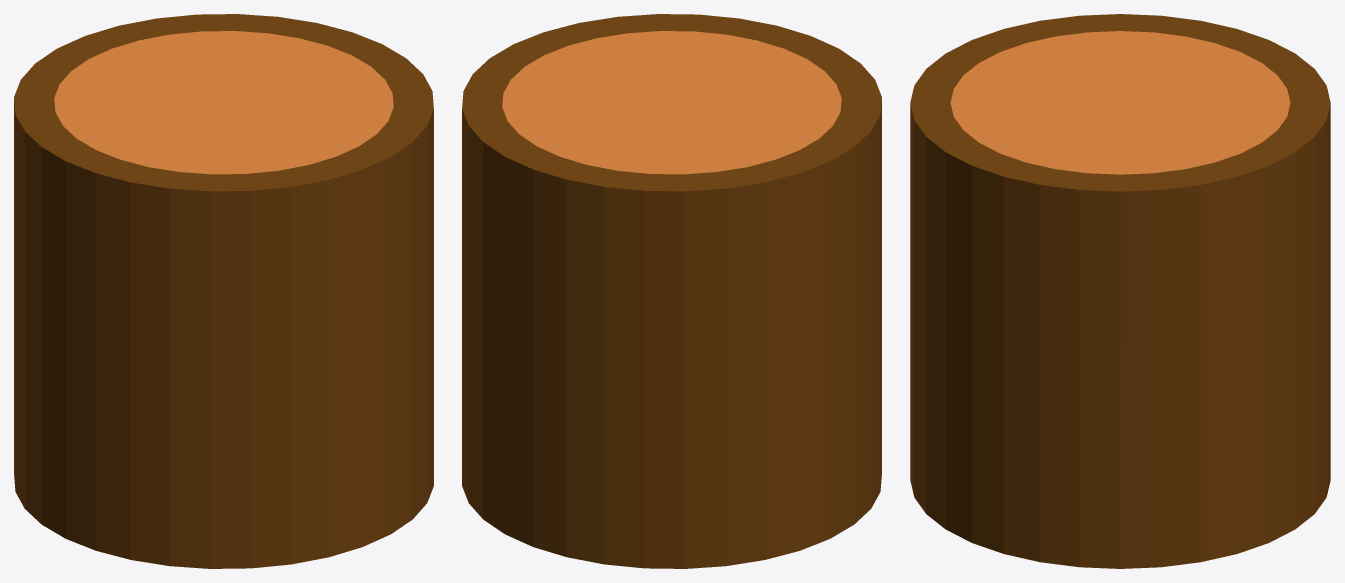
File: Penyok.fbx
3 renders of one model, left to right at view 1: azimuth 30°, elevation 25°; view 2: azimuth 150°, elevation 25°; view 3: azimuth 270°, elevation 25°, orthographic.
Parts seen in each view (by area): view 1: Penyok; view 2: Penyok; view 3: Penyok.
Part boxes in pixels (x1,y1,x2,y2): Penyok: [14, 14, 433, 568]; Penyok: [462, 14, 881, 568]; Penyok: [910, 14, 1330, 568].
Bounding box in the file's own units: 52.57 × 52.06 × 52.57.
